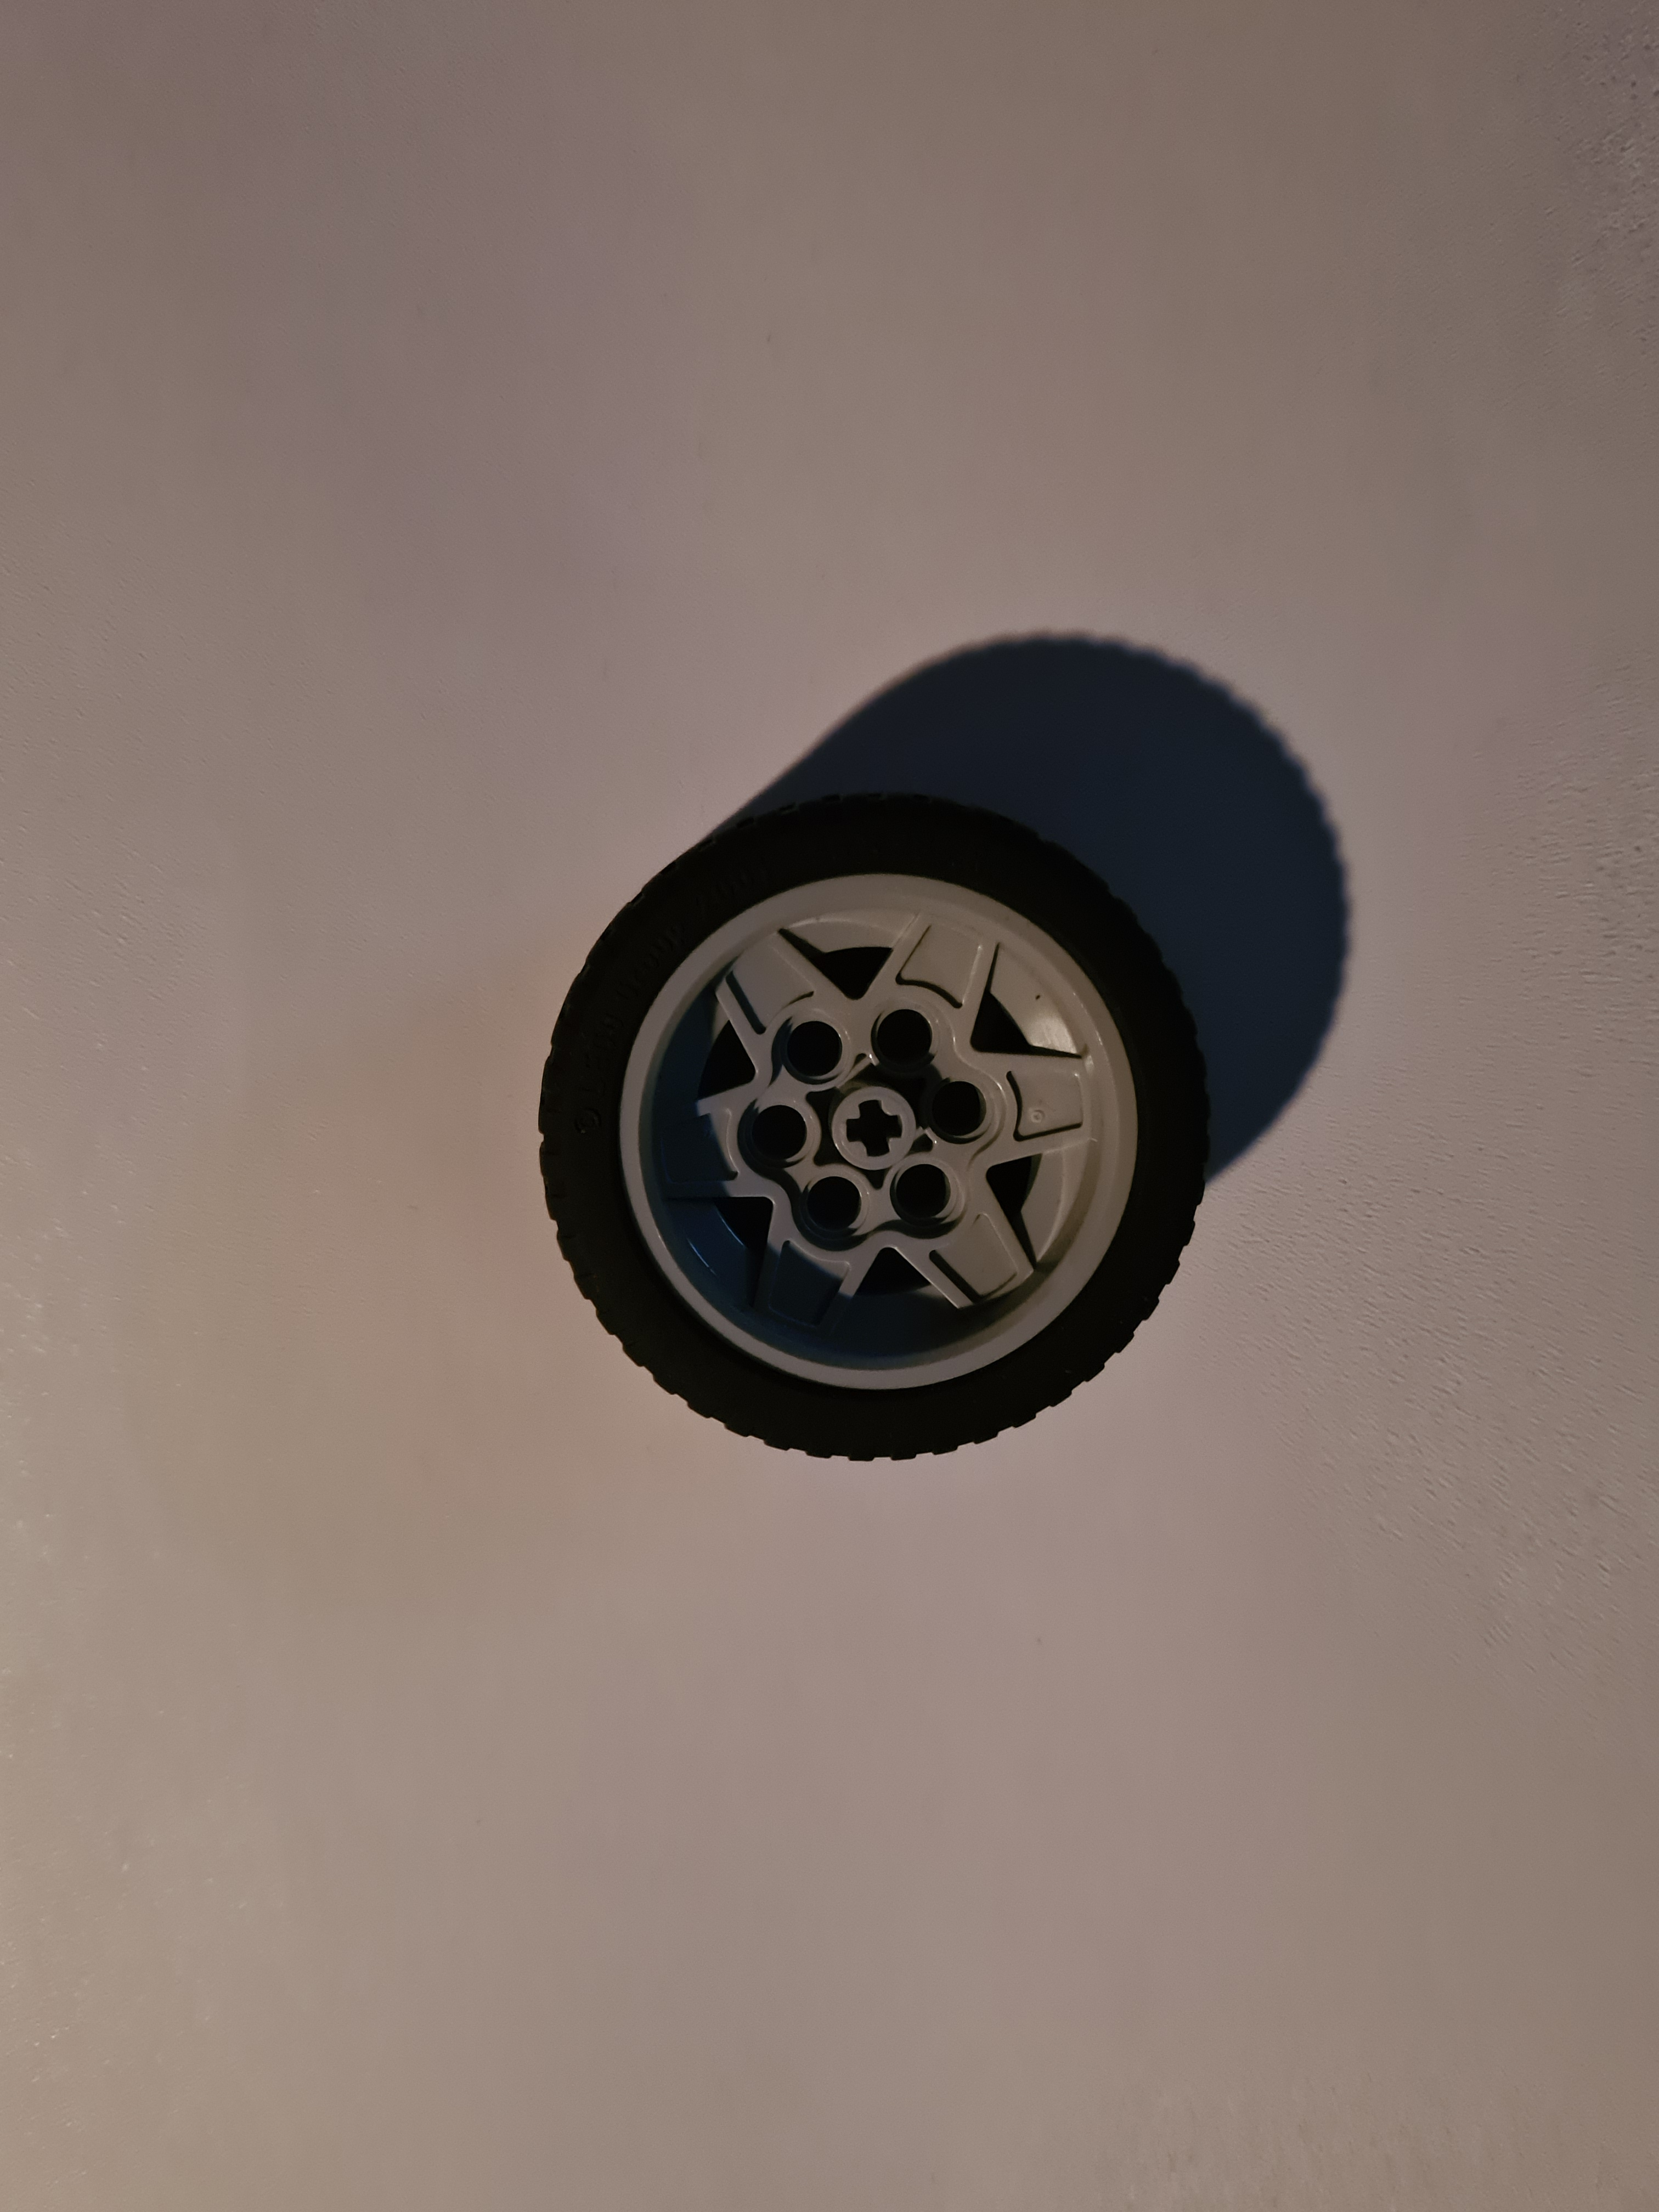Rad: (516, 772, 1237, 1489)
